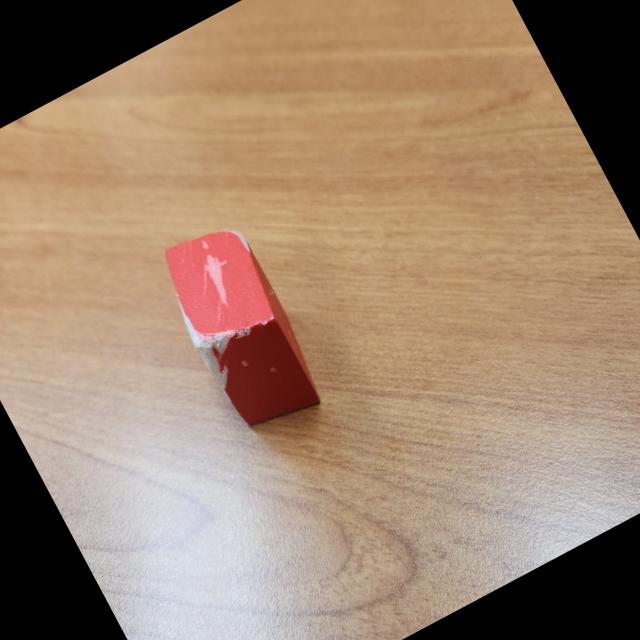broken: (146, 210, 330, 443)
